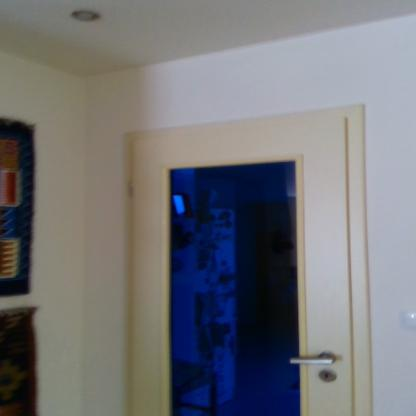door: (130, 140, 354, 416)
hinged: (122, 178, 134, 198)
lever: (284, 353, 333, 368)
